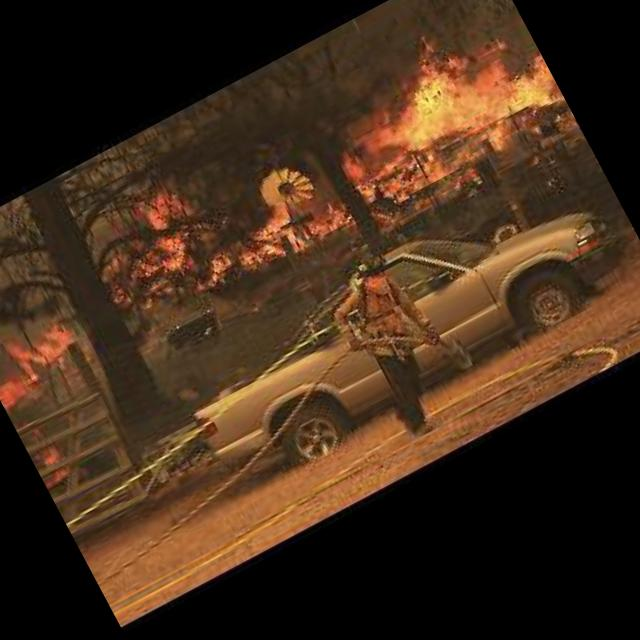fire: (304, 0, 581, 236), (117, 115, 347, 318), (0, 305, 90, 411), (20, 422, 76, 488)
